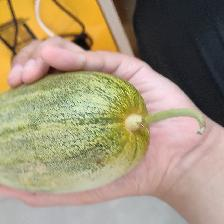gua: (3, 90, 153, 181)
